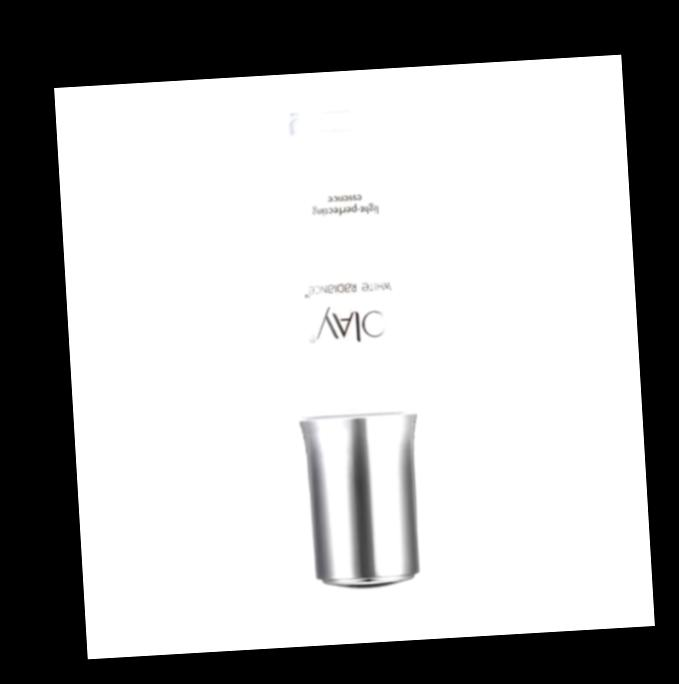cosmetic: (279, 112, 429, 593)
